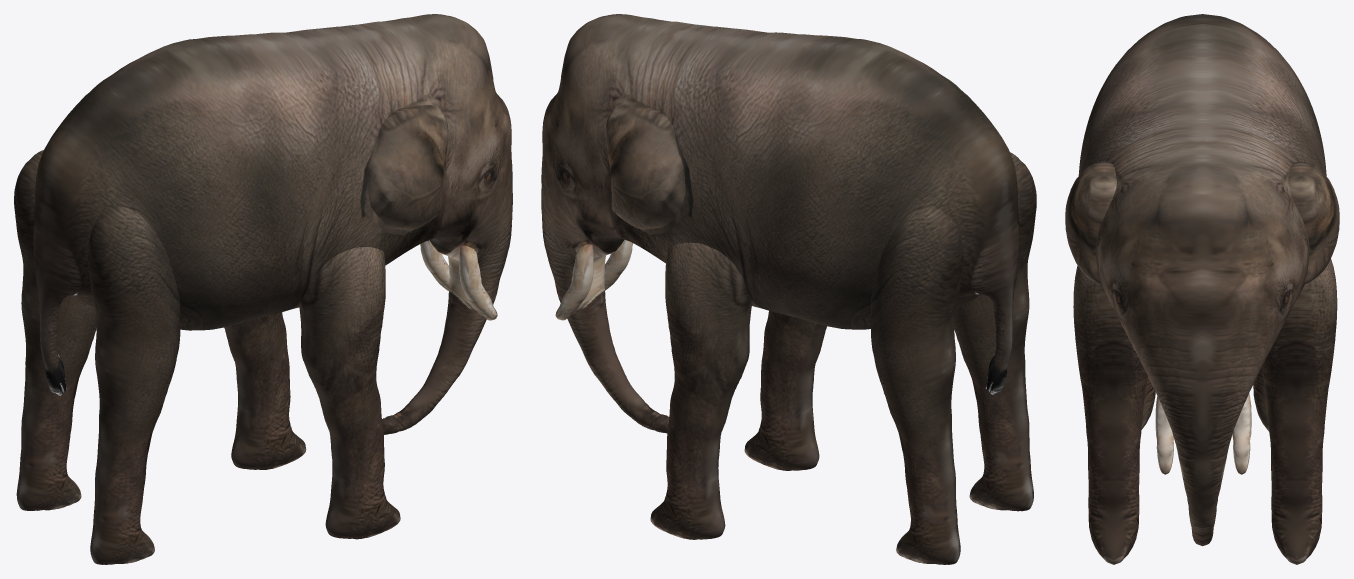
The model's file is sumatran-elephant.glb.
3 renders of one model, left to right at view 1: azimuth 30°, elevation 25°; view 2: azimuth 150°, elevation 25°; view 3: azimuth 270°, elevation 25°, orthographic. The views are drawn at different scales.
Visible parts, largest first — view 1: mm_frame; view 2: mm_frame; view 3: mm_frame.
Part boxes in pixels (<box>): mm_frame: <box>14,14,512,564</box>; mm_frame: <box>541,14,1036,564</box>; mm_frame: <box>1065,14,1339,564</box>.
Bounding box in the file's own units: 6.04 × 6 × 3.19.
Materials: 1 (1 with a texture image).
